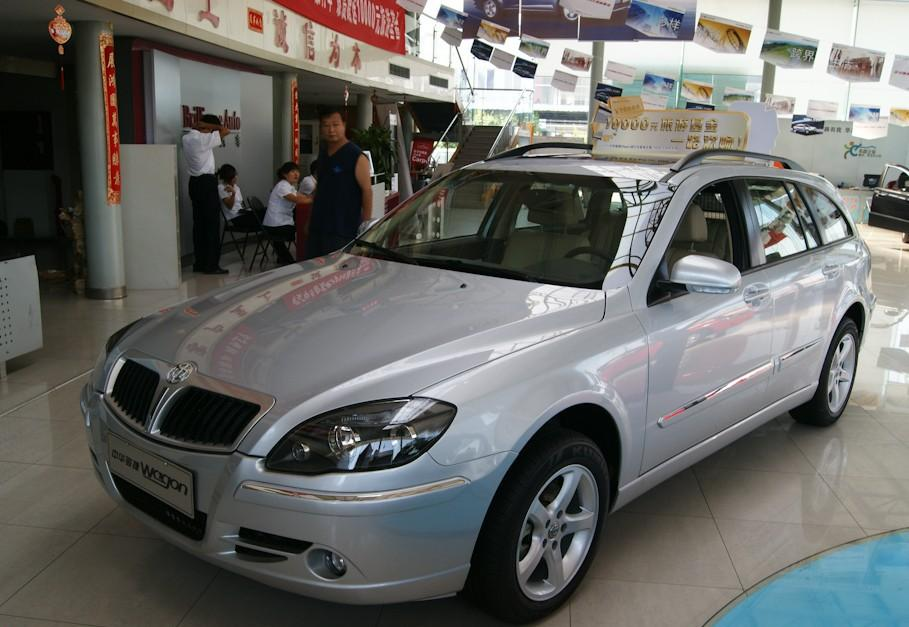Wagon: (80, 141, 877, 624)
